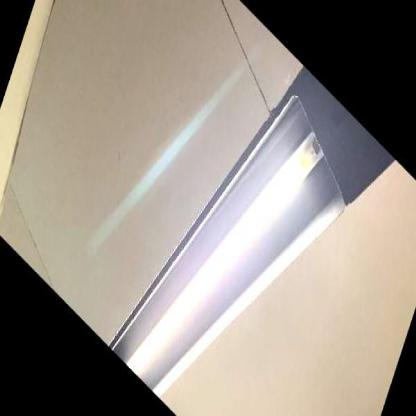light_on: (125, 39, 333, 415)
